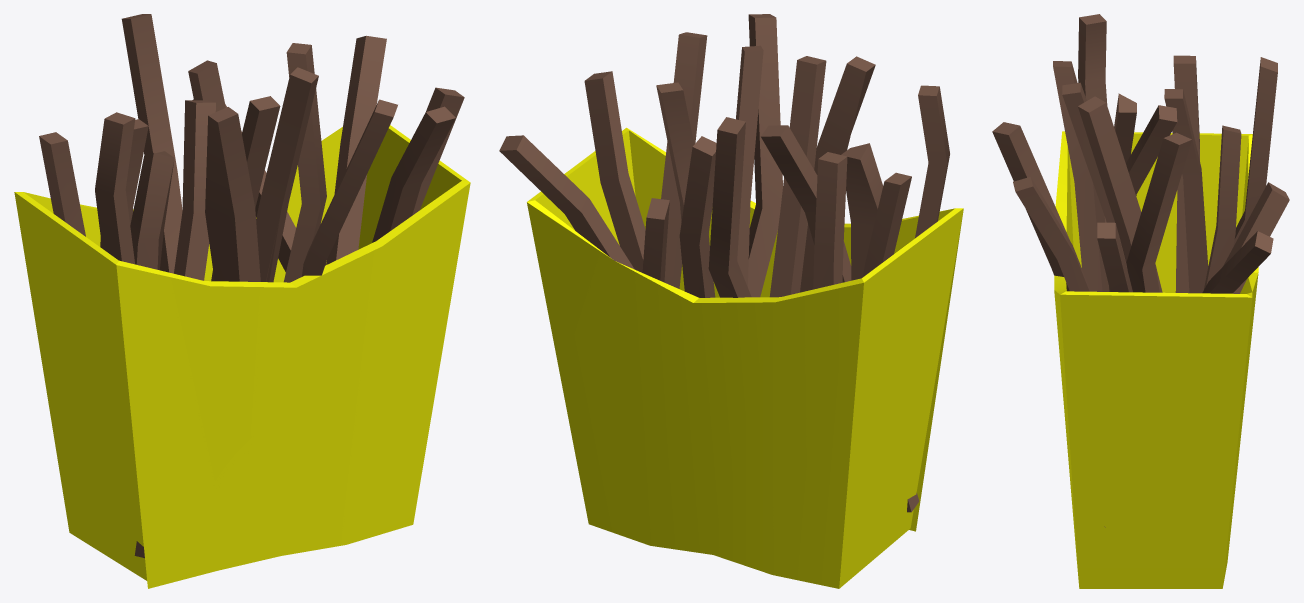
Rendered from Fries.fbx.
The picture shows the model from 3 angles, left to right: view 1: azimuth 30°, elevation 25°; view 2: azimuth 150°, elevation 25°; view 3: azimuth 270°, elevation 25°; orthographic projection. The views are drawn at different scales.
Visible parts, largest first — view 1: Fries; view 2: Fries; view 3: Fries.
Boxes of the visible parts, bbox=[...] form: Fries: bbox=[14, 14, 470, 588]; Fries: bbox=[499, 14, 963, 588]; Fries: bbox=[992, 14, 1289, 588].
Bounding box in the file's own units: 7.89 × 9.61 × 5.74.
